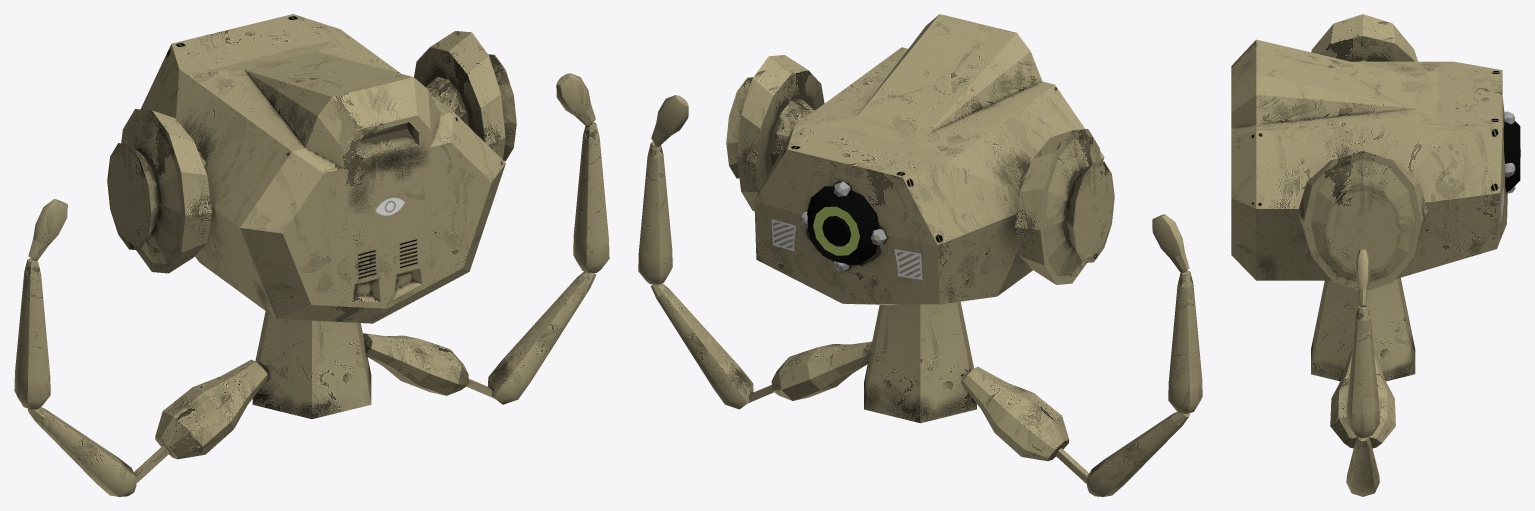
File: Drone_done.fbx
3 renders of one model, left to right at view 1: azimuth 30°, elevation 25°; view 2: azimuth 150°, elevation 25°; view 3: azimuth 270°, elevation 25°, orthographic. The views are drawn at different scales.
Parts seen in each view (by area): view 1: Drone; view 2: Drone; view 3: Drone.
Boxes of the visible parts, box(x1,y1,x2,y2) form: Drone: box(14, 14, 609, 496); Drone: box(638, 14, 1202, 496); Drone: box(1231, 14, 1520, 496).
Size of the model in its own units: 4.84 by 3.2 by 2.35.
Materials: 1 (1 with a texture image).
